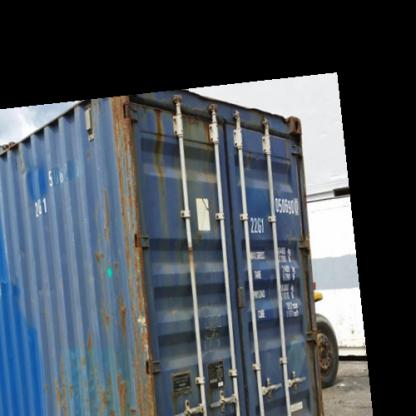Damage: (49, 331, 164, 414), (109, 95, 151, 186), (150, 101, 175, 189), (93, 186, 119, 270), (199, 300, 230, 355), (182, 108, 226, 140), (12, 156, 44, 179), (116, 296, 134, 330)
